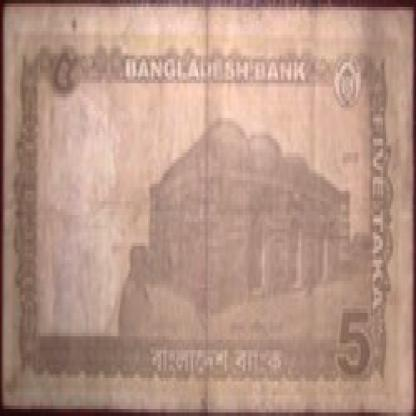Five Taka: (366, 100, 388, 319), (336, 294, 376, 392), (48, 38, 83, 111)
